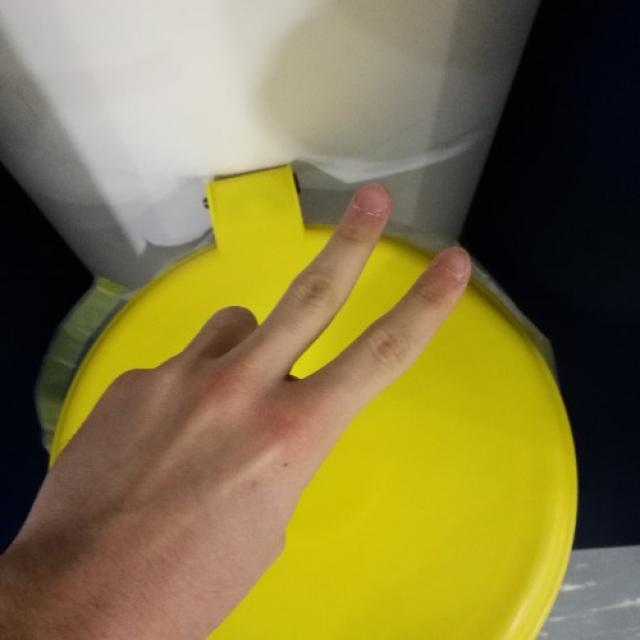scissors: (43, 182, 473, 546)
